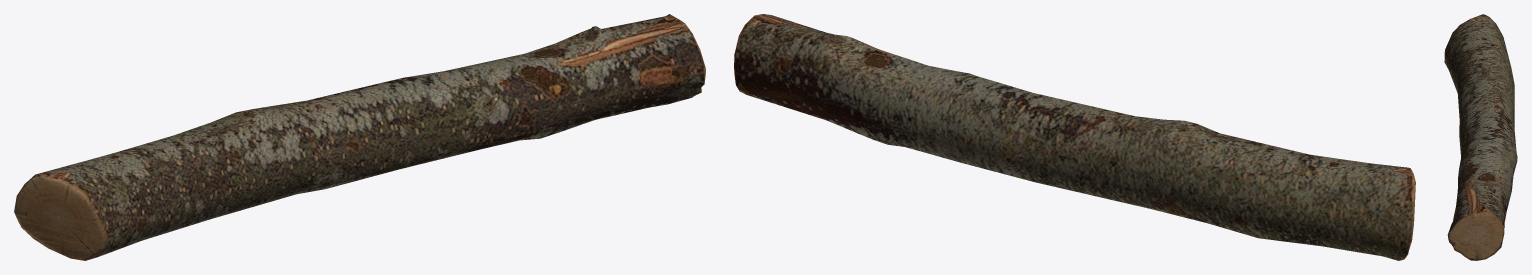
File: SM_For_Sca_Stick_Set_02_B.gltf
3 renders of one model, left to right at view 1: azimuth 30°, elevation 25°; view 2: azimuth 150°, elevation 25°; view 3: azimuth 270°, elevation 25°, orthographic. The views are drawn at different scales.
Visible parts, largest first — view 1: SM_For_Sca_Stick_Set_02_B; view 2: SM_For_Sca_Stick_Set_02_B; view 3: SM_For_Sca_Stick_Set_02_B.
Boxes of the visible parts, <box> form: SM_For_Sca_Stick_Set_02_B: <box>14,14,705,260</box>; SM_For_Sca_Stick_Set_02_B: <box>734,14,1415,260</box>; SM_For_Sca_Stick_Set_02_B: <box>1444,14,1517,260</box>.
Size of the model in its own units: 0.2899 by 0.0377 by 0.044.
1 material, 1 textured.
